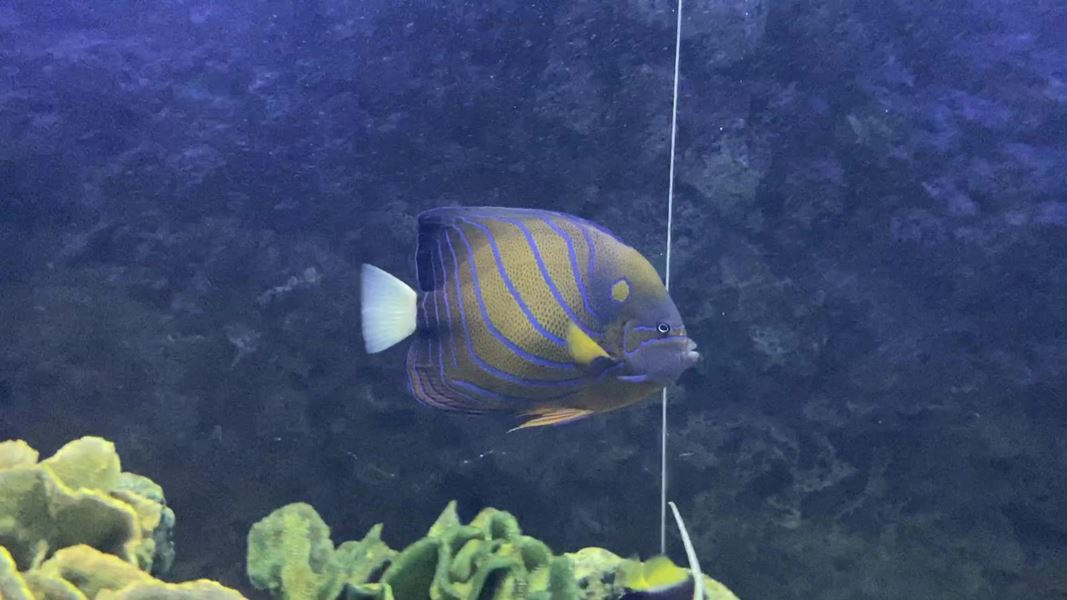Blue ring angelfish: (344, 194, 715, 464)
